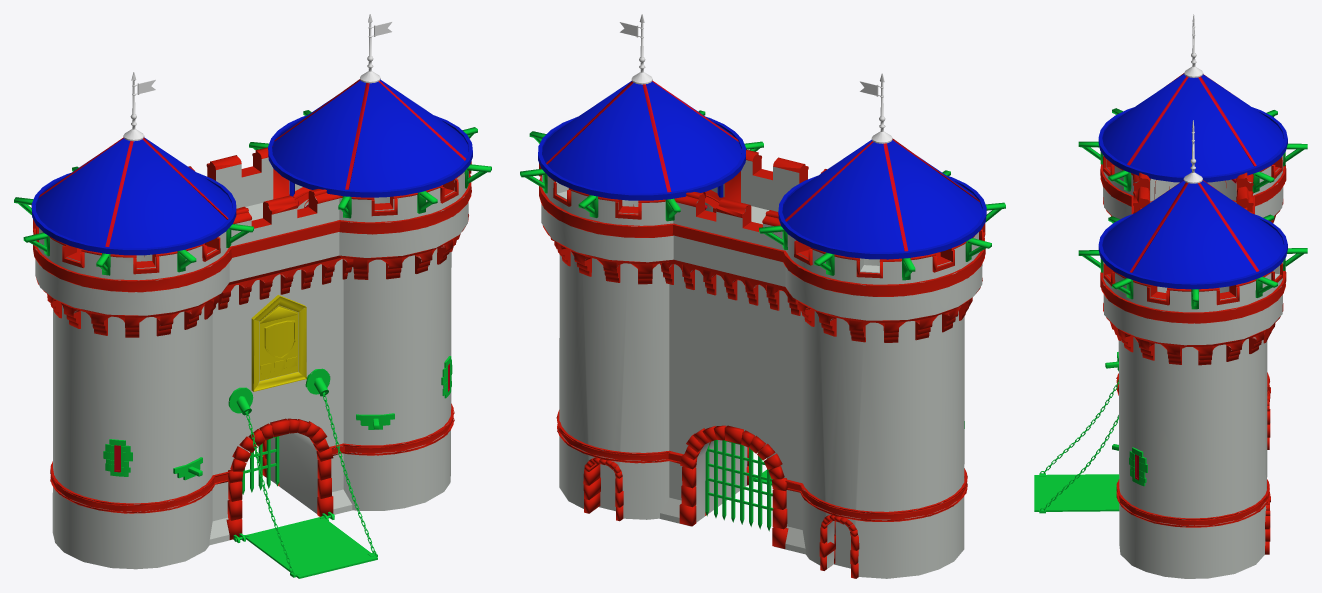
The model's file is Goal (1).fbx.
3 views of the same model, side by side, from view 1: azimuth 30°, elevation 25°; view 2: azimuth 150°, elevation 25°; view 3: azimuth 270°, elevation 25° (orthographic). The views are drawn at different scales.
Visible parts, largest first — view 1: a.007, Group_4.012, Group_5.019, a.006, Group_5.009, Group_2.017, Group_4.011, Group_4.007; view 2: a.007, Group_4.012, Group_5.009, Group_4.007, Group_4.011; view 3: a.007, Group_4.012, Group_5.019, a.006, Group_2.016.
Boxes of the visible parts, bbox=[...] form: a.007: bbox=[33, 146, 471, 569]; Group_4.012: bbox=[14, 79, 491, 275]; Group_5.019: bbox=[233, 511, 377, 578]; a.006: bbox=[246, 392, 374, 572]; Group_5.009: bbox=[242, 436, 279, 494]; Group_2.017: bbox=[103, 439, 132, 476]; Group_4.011: bbox=[123, 72, 155, 141]; Group_4.007: bbox=[360, 14, 391, 83]; a.007: bbox=[539, 149, 985, 578]; Group_4.012: bbox=[520, 80, 1005, 280]; Group_5.009: bbox=[705, 439, 773, 531]; Group_4.007: bbox=[619, 14, 652, 84]; Group_4.011: bbox=[860, 73, 892, 143]; a.007: bbox=[1100, 155, 1286, 578]; Group_4.012: bbox=[1078, 73, 1307, 309]; Group_5.019: bbox=[1034, 471, 1119, 513]; a.006: bbox=[1043, 379, 1118, 509]; Group_2.016: bbox=[1129, 447, 1147, 486].
Bounding box in the file's own units: 2091 × 2061 × 1190.
